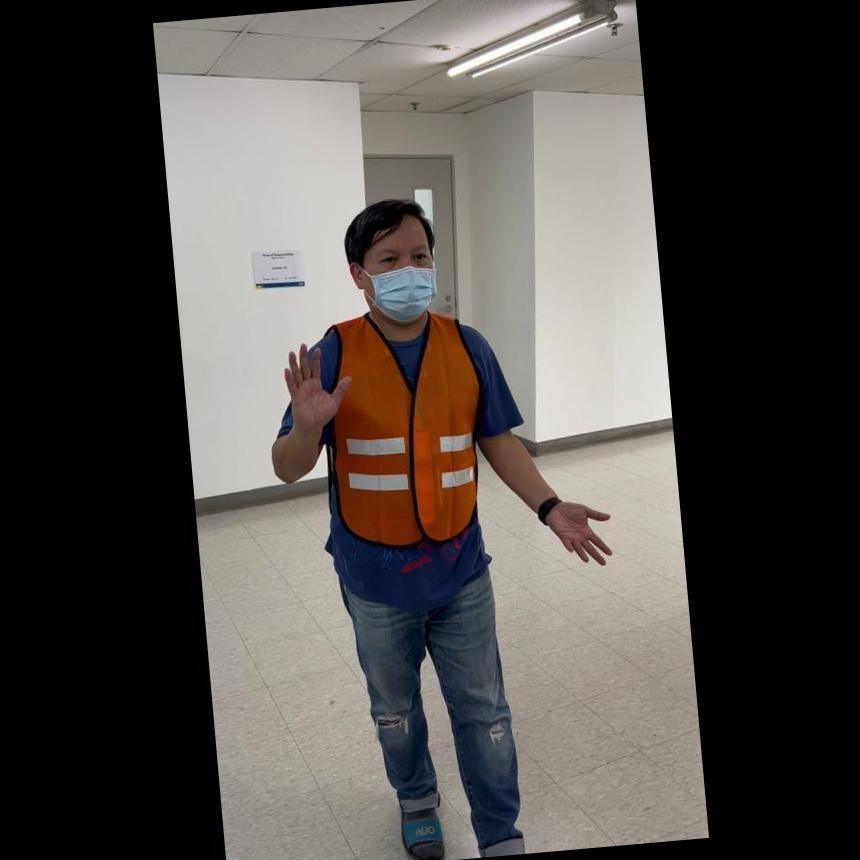No-gloves: (274, 331, 352, 431), (536, 493, 614, 571)
